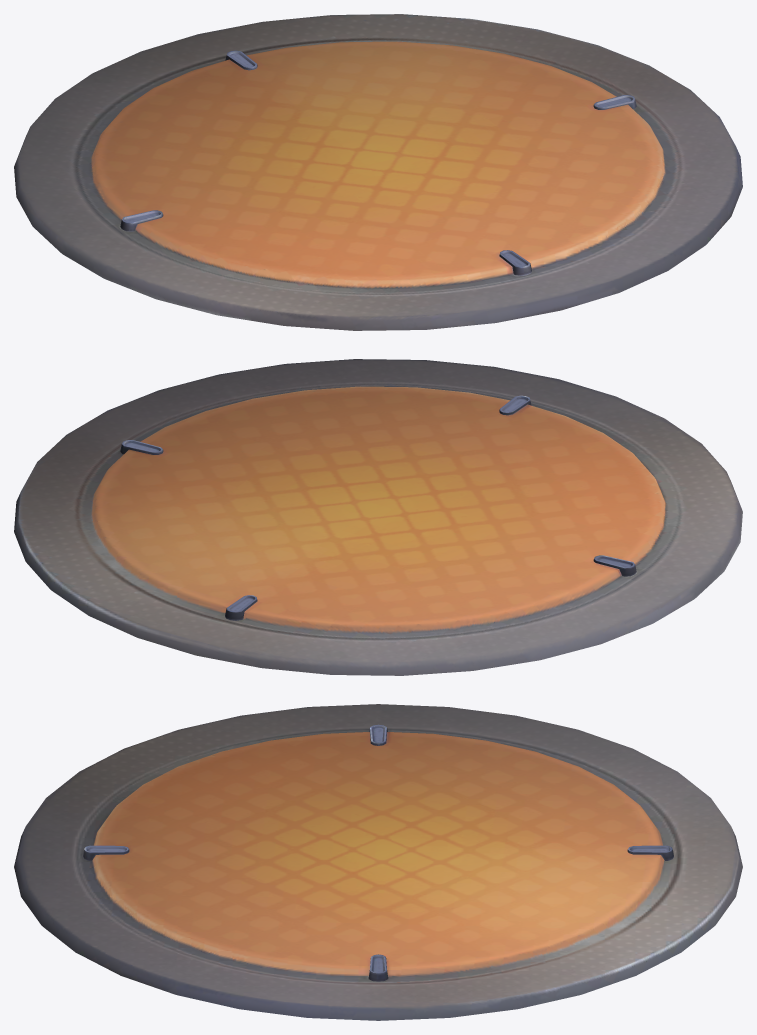
The model's file is pref_fx_NeutralScoreArea03_orange_floor_lv1.fbx.
3 renders of one model, top to bottom at view 1: azimuth 30°, elevation 25°; view 2: azimuth 150°, elevation 25°; view 3: azimuth 270°, elevation 25°, orthographic.
Visible parts, largest first — view 1: sm_prop_platform06a_lv1; view 2: sm_prop_platform06a_lv1; view 3: sm_prop_platform06a_lv1.
Boxes of the visible parts, x1,y1,x2,y2 form: sm_prop_platform06a_lv1: (14, 14, 742, 330); sm_prop_platform06a_lv1: (14, 359, 742, 675); sm_prop_platform06a_lv1: (14, 704, 742, 1020).
Bounding box in the file's own units: 7.46 × 0.2009 × 7.46.
